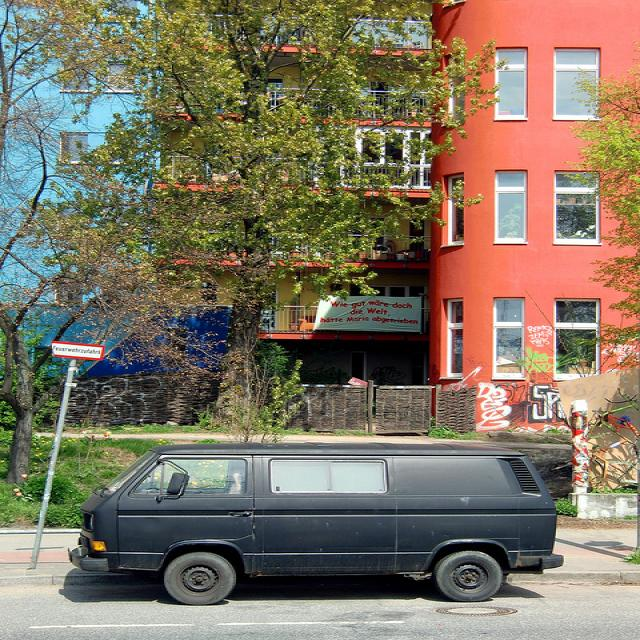Vehicle: (67, 444, 563, 606)
